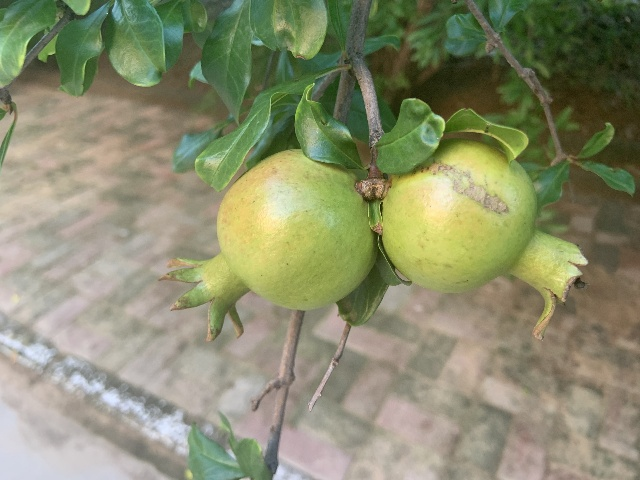mid-growth: (157, 148, 378, 342), (381, 137, 588, 342)
